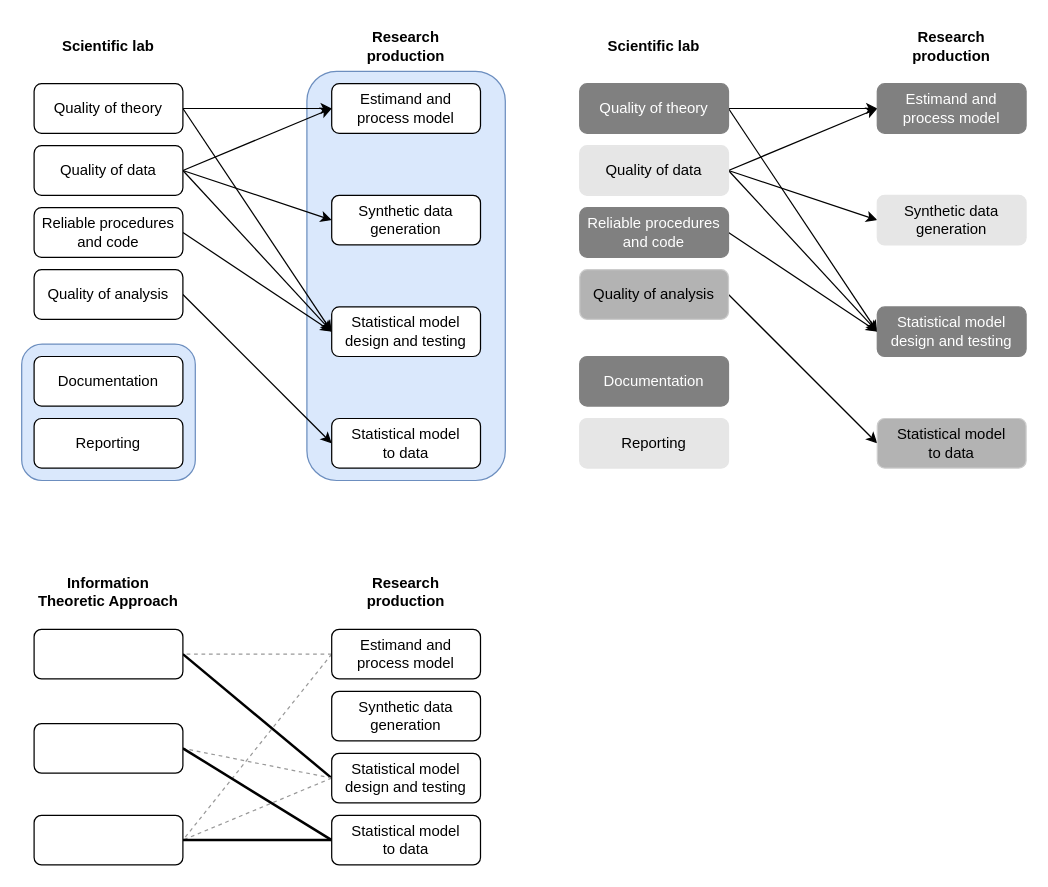
This 1048x887 diagram has some shape labels left out. Each missing label, with the box of its shape:
Hypothesis into statistical models: (33, 628, 183, 679)
Inference on multiple models: (33, 814, 183, 865)
Selecting among competing models: (33, 722, 183, 773)
